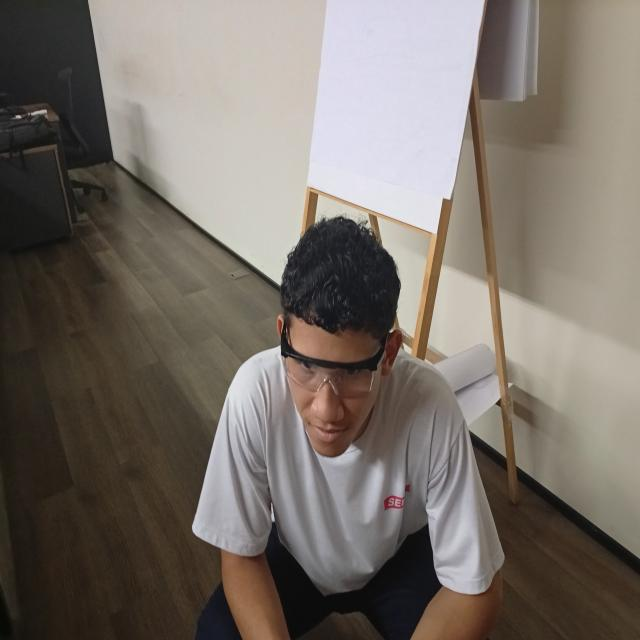oculos-epi: (280, 327, 393, 400)
